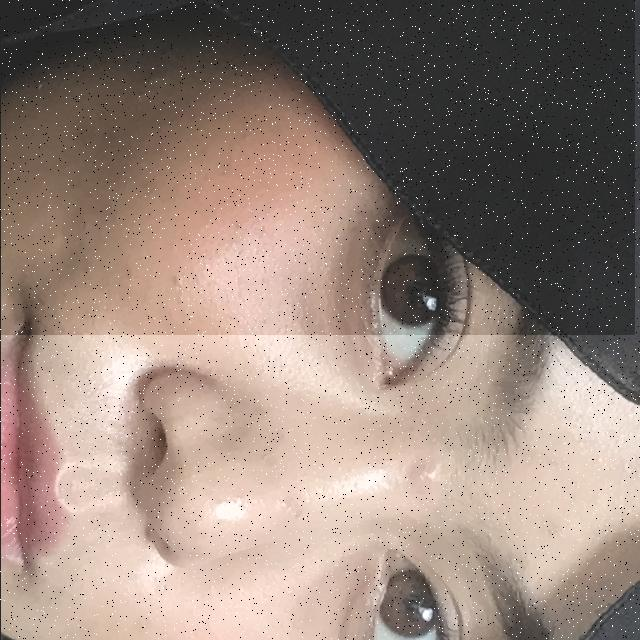mendengar: (0, 0, 634, 335)
